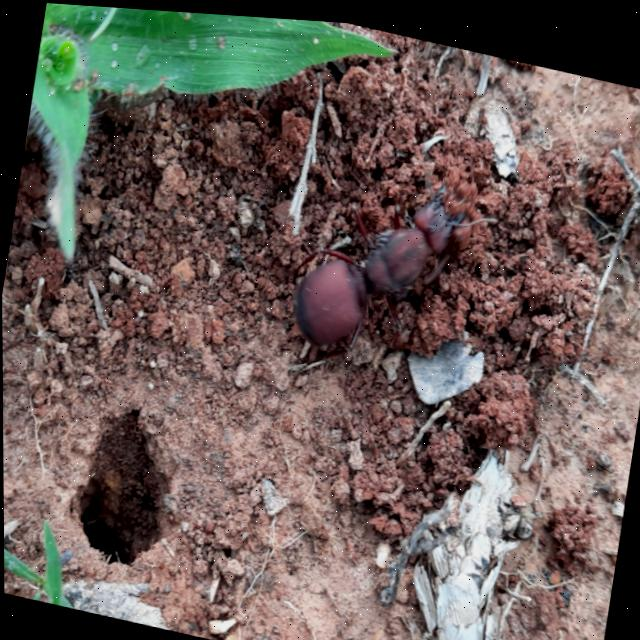Alive-Female-Dealate: (266, 143, 503, 422)
